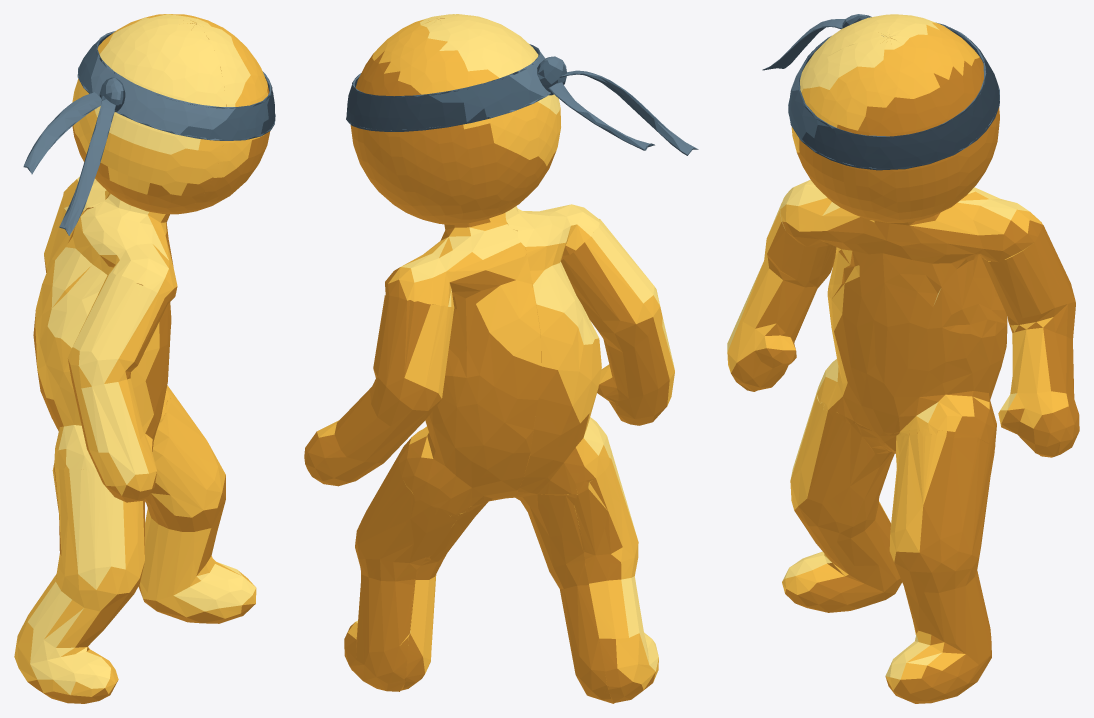
File: Ninja_Idle0_R.gltf
3 renders of one model, left to right at view 1: azimuth 30°, elevation 25°; view 2: azimuth 150°, elevation 25°; view 3: azimuth 270°, elevation 25°, orthographic. The views are drawn at different scales.
Visible parts, largest first — view 1: Ninja_Idle0_R_baked; view 2: Ninja_Idle0_R_baked; view 3: Ninja_Idle0_R_baked.
Boxes of the visible parts, left/top/right/bottom form: Ninja_Idle0_R_baked: left=14, top=14, right=275, bottom=703; Ninja_Idle0_R_baked: left=304, top=14, right=698, bottom=703; Ninja_Idle0_R_baked: left=727, top=14, right=1079, bottom=703.
Size of the model in its own units: 0.4314 by 1 by 0.4915.
